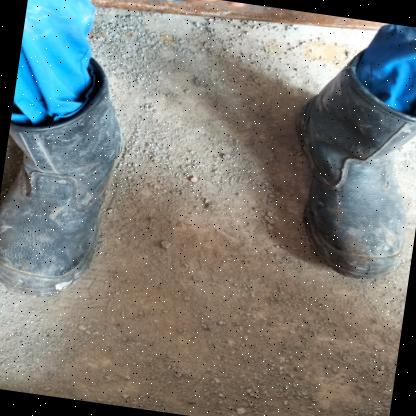bota: (0, 48, 141, 313), (280, 43, 416, 285)
